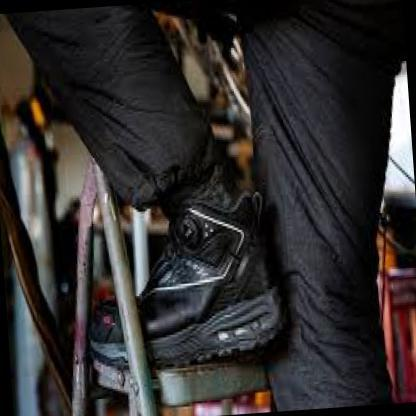safety-shoe: (68, 185, 304, 403)
